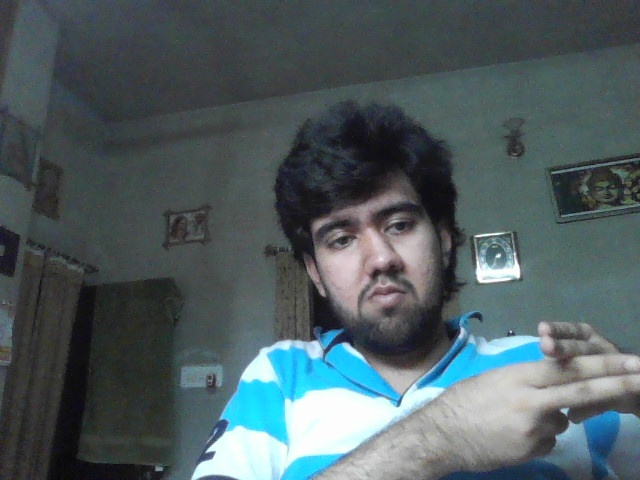Name: (459, 320, 640, 471)
